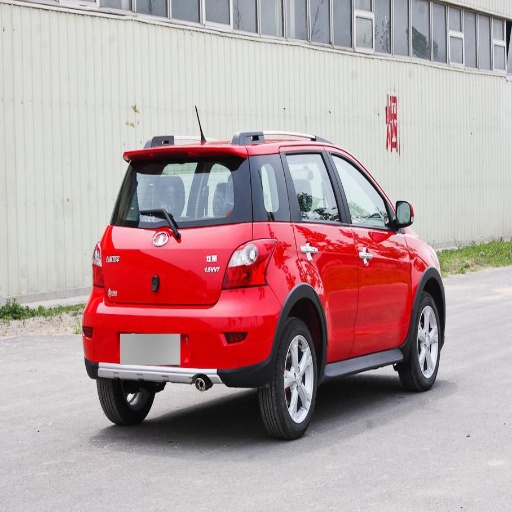back_bumper: (83, 285, 284, 384)
back_right_door: (271, 146, 361, 356)
trunk: (94, 225, 280, 332)
